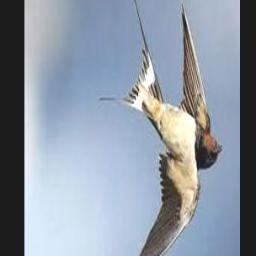Swallow: (99, 0, 221, 256)
